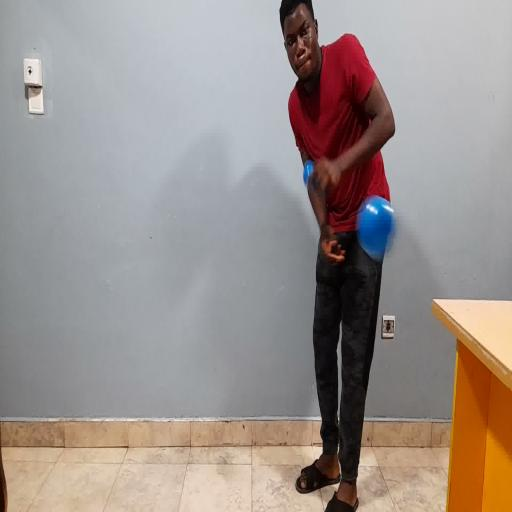plastic-ball: (356, 192, 396, 261)
